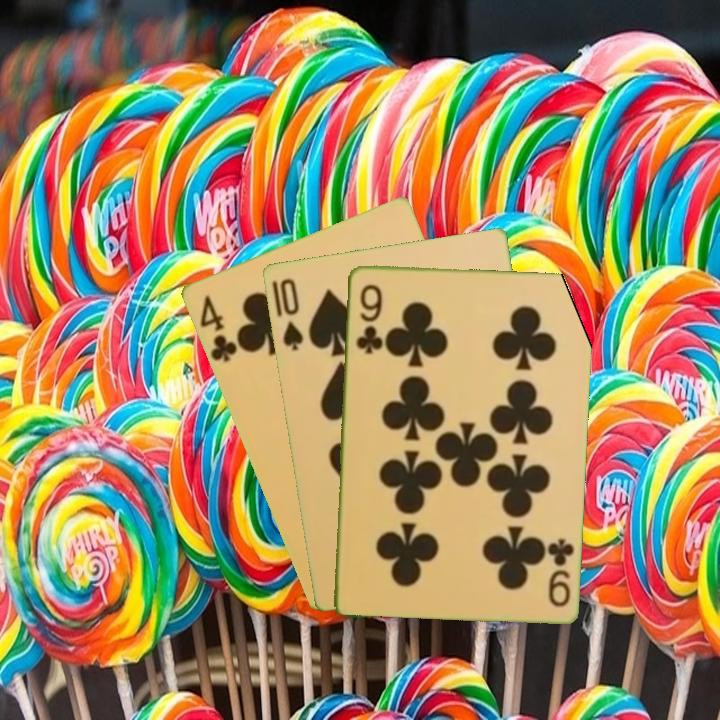10s: (276, 274, 306, 353)
4c: (195, 291, 240, 365)
9c: (544, 534, 577, 609), (352, 280, 384, 357)
